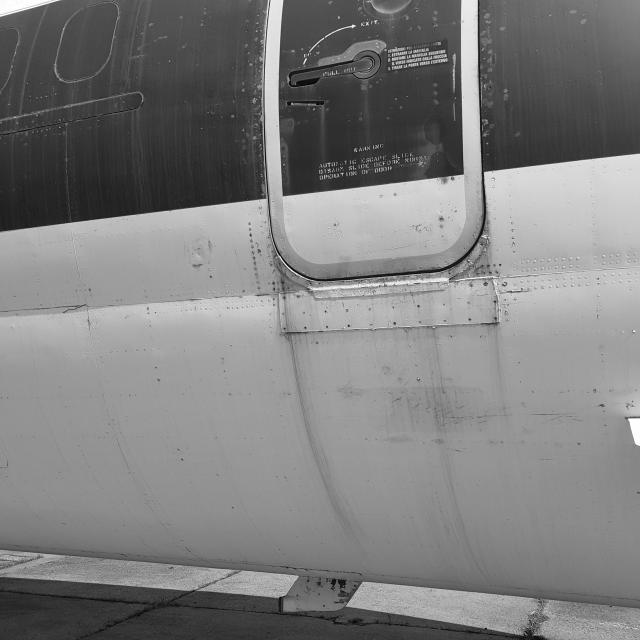crack: (58, 306, 91, 317)
